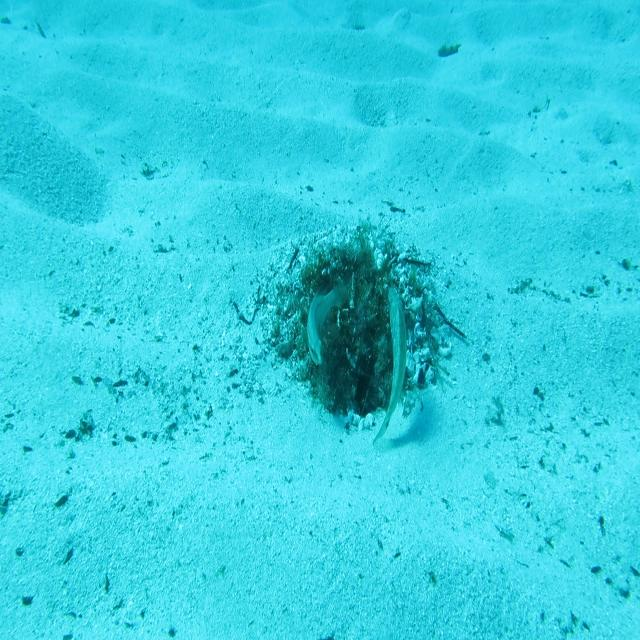DAN_CIRC: (372, 281, 416, 451)
core_nest: (335, 260, 376, 311)
female: (304, 270, 350, 367)
nest: (249, 207, 460, 443)
vegetation: (438, 41, 461, 62)
